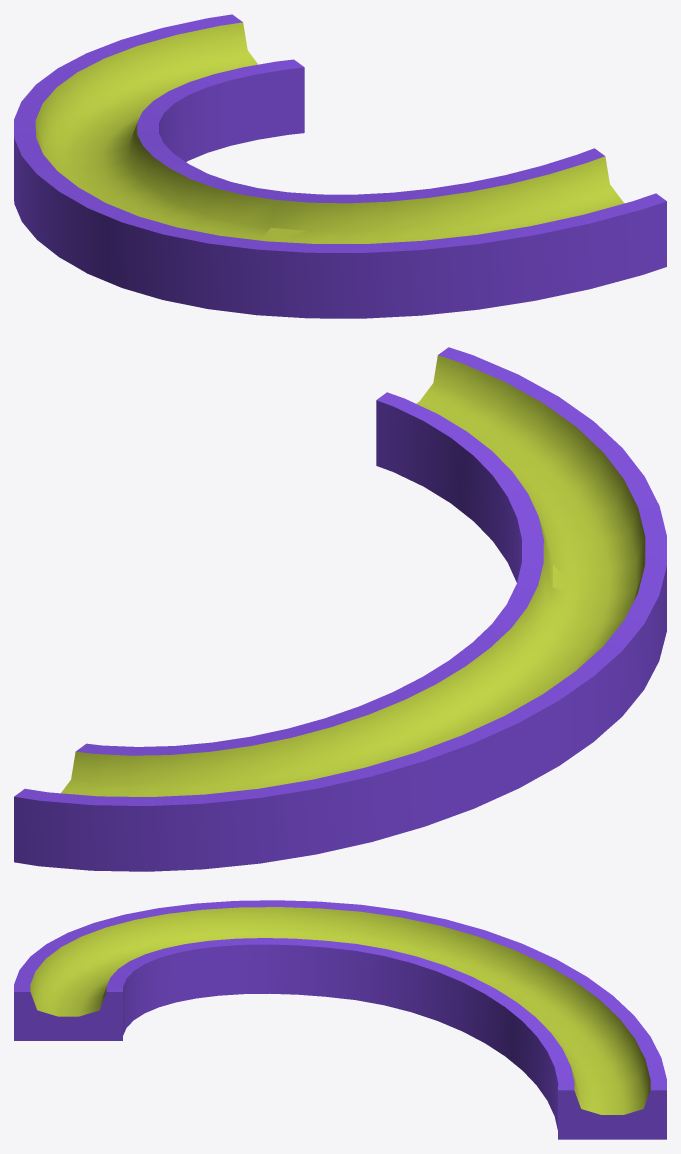
Rendered from helix_large_half_left-col.dae.
3 views of the same model, one above another, from view 1: azimuth 30°, elevation 25°; view 2: azimuth 150°, elevation 25°; view 3: azimuth 270°, elevation 25° (orthographic). The views are drawn at different scales.
Parts seen in each view (by area): view 1: helix_large_half_left-col; view 2: helix_large_half_left-col; view 3: helix_large_half_left-col.
Boxes of the visible parts, x1,y1,x2,y2 form: helix_large_half_left-col: [14, 14, 666, 318]; helix_large_half_left-col: [14, 347, 666, 871]; helix_large_half_left-col: [14, 900, 666, 1139].
Bounding box in the file's own units: 3 × 6 × 1.5.
